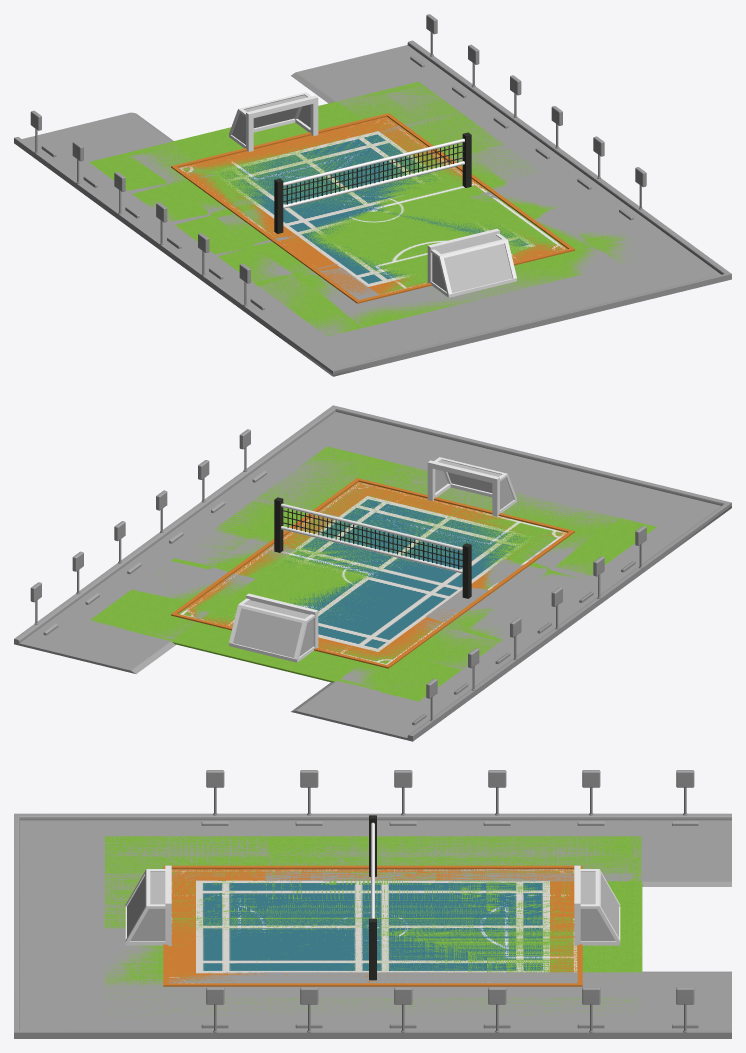
File: PlayGrounds.fbx
3 renders of one model, top to bottom at view 1: azimuth 30°, elevation 25°; view 2: azimuth 150°, elevation 25°; view 3: azimuth 270°, elevation 25°, orthographic. The views are drawn at different scales.
Parts seen in each view (by area): view 1: Parking_Lot, Football_Court, Basketball_Court, Net (×3), Park_Sign, Goal_01, Goal_02, Yellow_Part; view 2: Parking_Lot, Football_Court, Basketball_Court, Net (×3), Park_Sign, Goal_02, Goal_01, Yellow_Part; view 3: Parking_Lot, Basketball_Court, Football_Court, Net (×3), Park_Sign, Yellow_Part, Goal_01, Goal_02.
Boxes of the visible parts, left/top/right/bottom form: Parking_Lot: left=14, top=40, right=731, bottom=376; Football_Court: left=89, top=82, right=640, bottom=335; Basketball_Court: left=171, top=113, right=574, bottom=303; Net (×3): left=232, top=95, right=512, bottom=292; Park_Sign: left=30, top=14, right=646, bottom=306; Goal_01: left=229, top=92, right=318, bottom=151; Goal_02: left=427, top=228, right=516, bottom=297; Yellow_Part: left=41, top=55, right=633, bottom=310; Parking_Lot: left=14, top=405, right=731, bottom=741; Football_Court: left=90, top=446, right=656, bottom=701; Basketball_Court: left=171, top=478, right=574, bottom=668; Net (×3): left=233, top=460, right=513, bottom=657; Park_Sign: left=30, top=429, right=646, bottom=721; Goal_02: left=427, top=457, right=516, bottom=516; Goal_01: left=229, top=593, right=318, bottom=662; Yellow_Part: left=43, top=470, right=635, bottom=725; Parking_Lot: left=14, top=813, right=731, bottom=1038; Basketball_Court: left=163, top=865, right=582, bottom=986; Football_Court: left=104, top=836, right=642, bottom=1017; Net (×3): left=127, top=815, right=618, bottom=980; Park_Sign: left=206, top=770, right=694, bottom=1032; Yellow_Part: left=201, top=821, right=698, bottom=1028; Goal_01: left=574, top=865, right=620, bottom=945; Goal_02: left=125, top=865, right=171, bottom=945.
Bounding box in the file's own units: 1956 × 258 × 2705.
